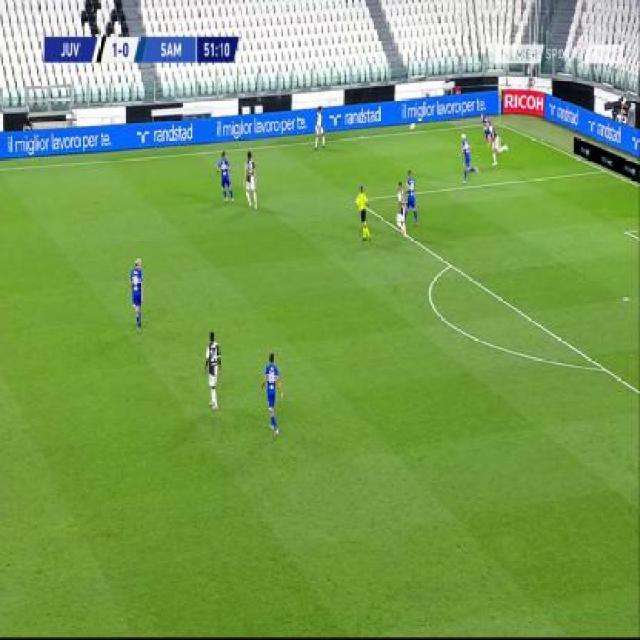ball: (409, 120, 417, 133)
player: (260, 349, 283, 438), (203, 328, 222, 410), (129, 255, 146, 334), (354, 182, 373, 244), (487, 119, 509, 167), (460, 131, 479, 185), (216, 149, 235, 203), (242, 148, 258, 210), (405, 168, 419, 227), (394, 179, 407, 236), (313, 103, 327, 149), (478, 113, 491, 141)
